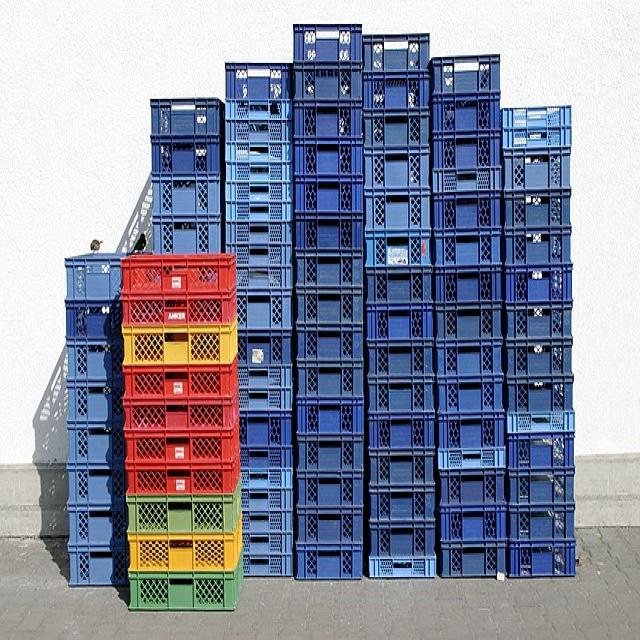basket: (225, 63, 292, 576), (121, 252, 237, 327), (127, 559, 244, 617), (127, 521, 244, 576), (125, 482, 242, 537), (122, 320, 239, 368), (150, 100, 223, 175), (123, 390, 239, 437), (124, 425, 240, 468), (125, 457, 242, 499), (123, 359, 238, 401), (508, 411, 576, 472), (122, 291, 236, 326), (503, 107, 574, 149), (152, 175, 221, 218), (365, 189, 431, 233), (363, 70, 430, 113), (64, 253, 124, 301), (505, 147, 571, 190), (433, 190, 503, 230), (294, 22, 362, 63), (226, 100, 292, 142), (365, 147, 430, 189), (432, 55, 502, 94), (433, 94, 503, 133), (506, 264, 573, 303), (67, 505, 126, 549), (435, 267, 503, 305), (510, 504, 576, 543), (508, 375, 574, 414), (368, 340, 435, 378), (367, 304, 434, 342), (506, 191, 573, 229), (370, 450, 435, 489), (510, 542, 578, 579), (366, 230, 432, 268), (153, 217, 222, 253), (294, 64, 363, 100), (368, 378, 435, 415), (364, 34, 431, 71), (436, 304, 503, 341), (438, 377, 505, 414), (370, 520, 435, 558), (369, 412, 434, 450), (294, 102, 362, 138), (295, 214, 363, 250), (434, 133, 502, 169), (440, 507, 508, 543), (67, 549, 129, 588), (225, 63, 292, 99), (295, 177, 362, 213), (296, 252, 363, 288), (297, 399, 364, 435), (66, 340, 122, 383), (365, 111, 430, 148), (298, 436, 364, 472), (297, 472, 363, 508), (297, 508, 363, 544), (296, 544, 362, 580), (437, 340, 503, 376), (440, 471, 506, 507), (510, 469, 576, 505), (507, 340, 573, 376), (507, 303, 573, 339), (67, 382, 122, 425), (506, 230, 573, 265), (297, 325, 362, 361), (442, 543, 507, 579), (67, 466, 124, 507), (295, 141, 363, 175), (297, 362, 363, 397), (367, 269, 433, 304), (435, 231, 502, 265), (297, 289, 362, 324), (370, 487, 435, 522), (68, 425, 124, 465), (439, 416, 506, 449), (65, 301, 121, 340), (432, 167, 503, 193), (369, 555, 436, 582), (439, 449, 507, 471)
